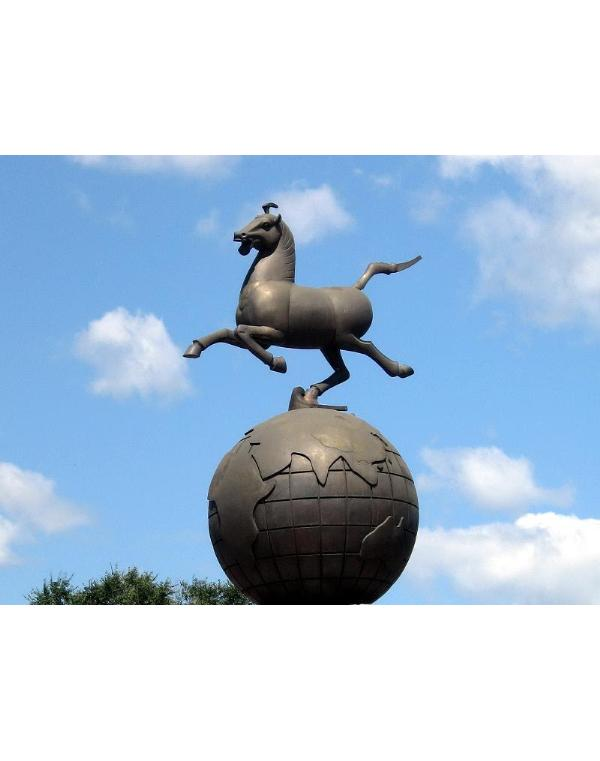background: (184, 202, 422, 407)
